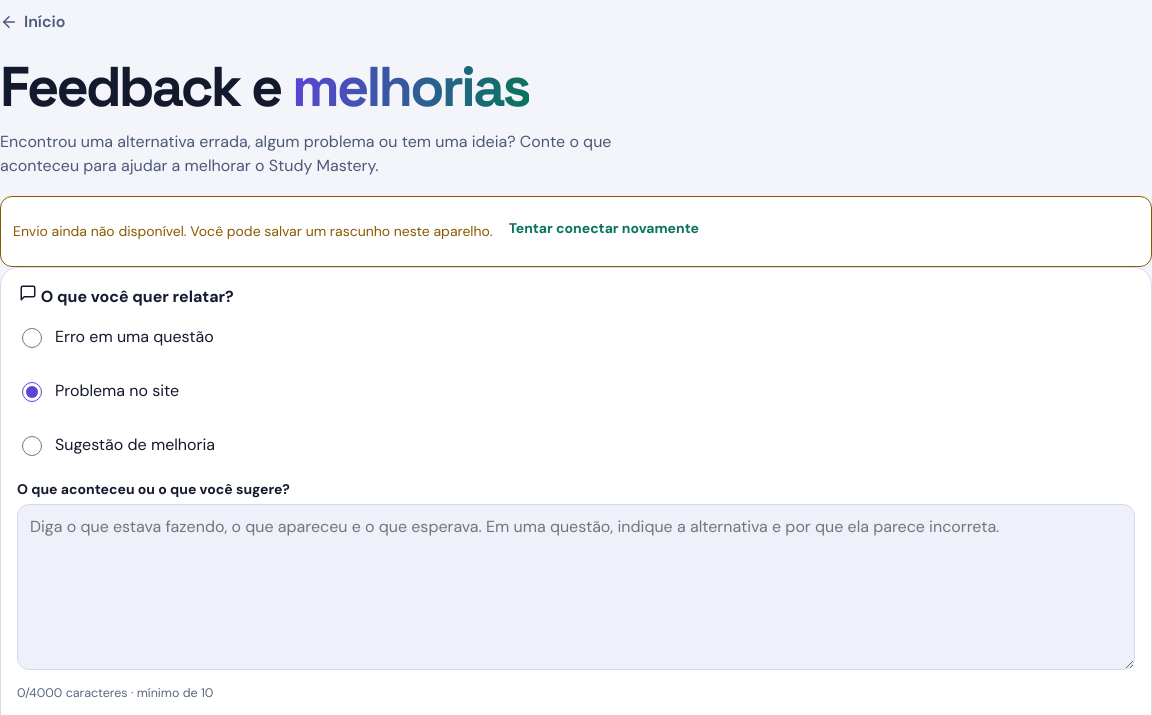
Test case: feedback do estudante › serviço desativado permite rascunho, sem envio fictício
This screenshot has width=1152, height=715.
Expected: the text "Envio ainda não disponível. Você pode salvar um rascunho neste aparelho." is shown, [13,221,493,242]
Replace the text in the text box labelled "O que aconteceu ou o que você sugere?" with "A alternativa C parece incorreta quando aplico a regra." at (576, 587), box [17,504,1135,670]
(page scrolled)
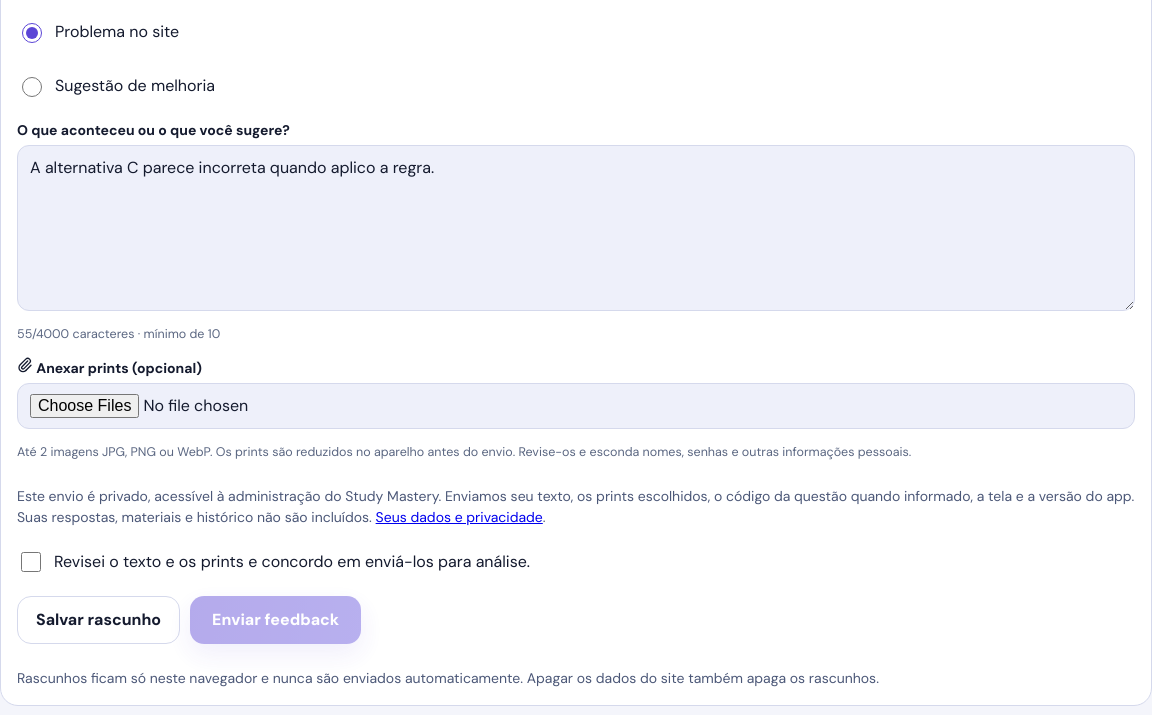
Click the checkbox labelled "Revisei o texto".
click(31, 562)  # box [21,552,41,572]
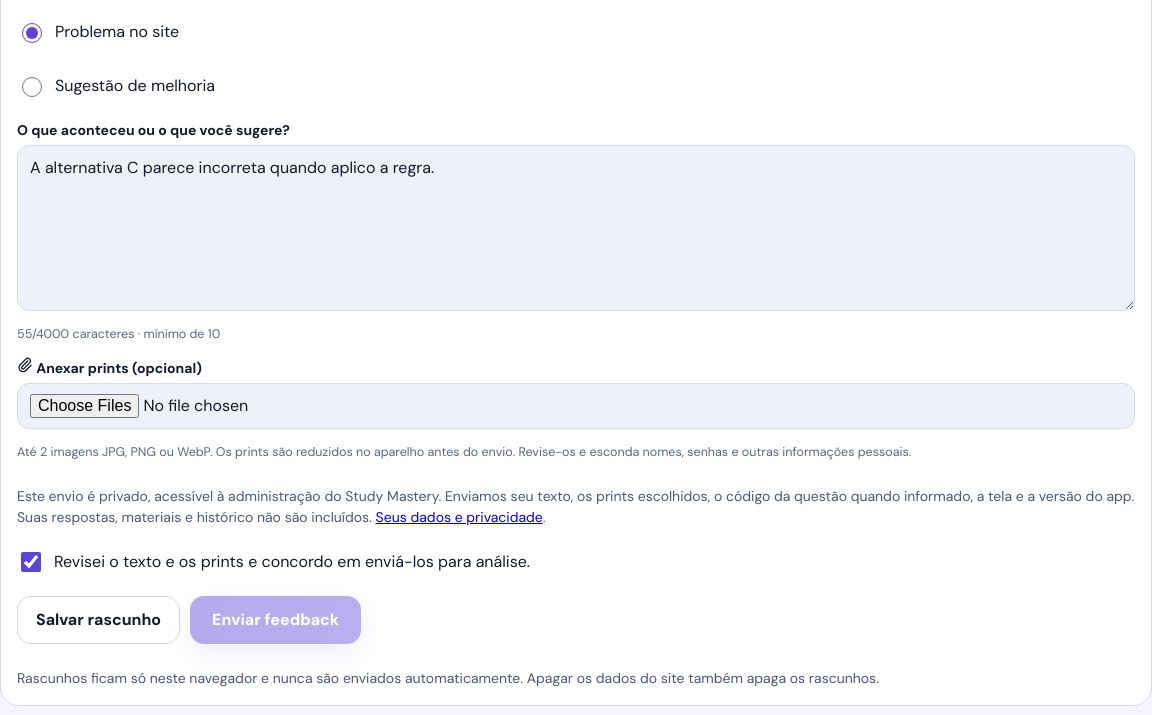
Expected: the button "Enviar feedback" is disabled, [190,596,361,644]
Click the button "Salvar rascunho".
click(99, 620)  # box [17,596,180,644]
(page scrolled)
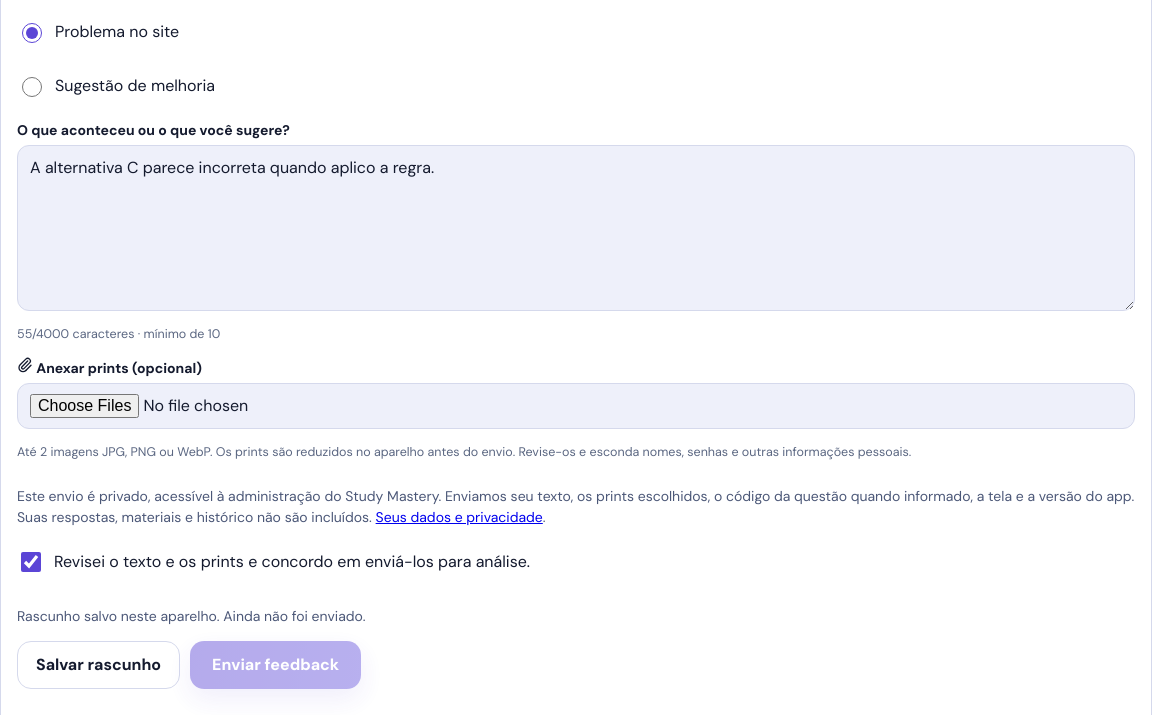
Expected: the text "Rascunho salvo neste aparelho. Ainda não foi enviado." is shown, [17,607,366,625]
